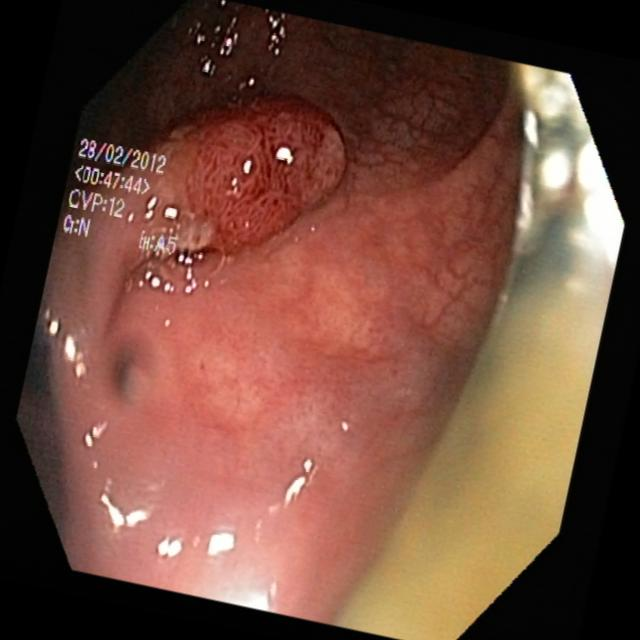Polyps: (147, 94, 354, 272)
